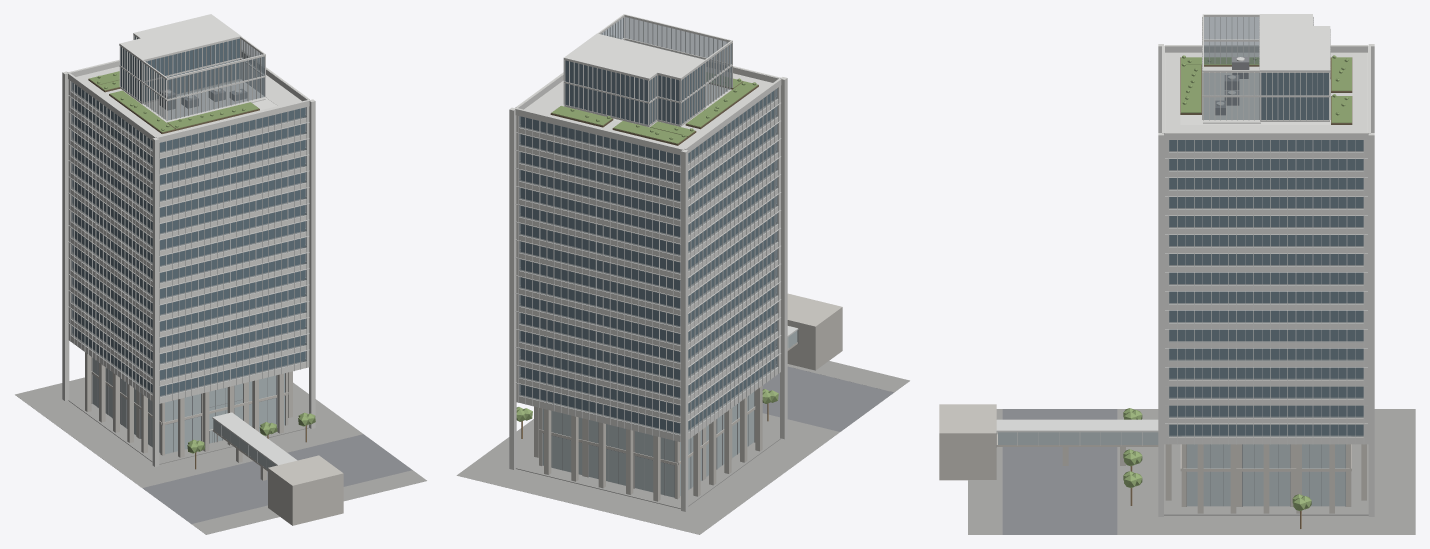
File: clay-plus15-glass-office-tower-clay-v006.glb
3 views of the same model, side by side, from view 1: azimuth 30°, elevation 25°; view 2: azimuth 150°, elevation 25°; view 3: azimuth 270°, elevation 25° (orthographic). The views are drawn at different scales.
Parts seen in each view (by area): view 1: CLAY_GLASS, CLAY_PALE, CLAY_BLUE, CLAY_METAL, CLAY_FOUNDATION, CLAY_CONCRETE, CLAY_HARDWARE, CLAY_LIGHTGLASS, CLAY_FLOOR, CLAY_MEMBRANE, CLAY_PLANTING; view 2: CLAY_GLASS, CLAY_BLUE, CLAY_PALE, CLAY_METAL, CLAY_FOUNDATION, CLAY_CONCRETE, CLAY_LIGHTGLASS, CLAY_HARDWARE, CLAY_FLOOR, CLAY_MEMBRANE, CLAY_PLANTING, CLAY_SOIL; view 3: CLAY_GLASS, CLAY_PALE, CLAY_BLUE, CLAY_FOUNDATION, CLAY_METAL, CLAY_HARDWARE, CLAY_CONCRETE, CLAY_LIGHTGLASS, CLAY_MEMBRANE, CLAY_PLANTING, CLAY_FLOOR.
Part boxes in pixels (<box>): CLAY_GLASS: <box>71,36,306,397</box>; CLAY_PALE: <box>62,33,315,467</box>; CLAY_BLUE: <box>72,36,305,395</box>; CLAY_METAL: <box>68,35,309,469</box>; CLAY_FOUNDATION: <box>15,377,426,534</box>; CLAY_CONCRETE: <box>75,337,343,525</box>; CLAY_HARDWARE: <box>92,88,412,523</box>; CLAY_LIGHTGLASS: <box>92,358,284,469</box>; CLAY_FLOOR: <box>75,93,302,396</box>; CLAY_MEMBRANE: <box>119,14,301,110</box>; CLAY_PLANTING: <box>89,71,315,453</box>; CLAY_GLASS: <box>519,17,798,434</box>; CLAY_BLUE: <box>520,60,776,433</box>; CLAY_PALE: <box>509,14,787,511</box>; CLAY_METAL: <box>515,17,798,442</box>; CLAY_FOUNDATION: <box>456,361,909,534</box>; CLAY_CONCRETE: <box>528,293,842,501</box>; CLAY_LIGHTGLASS: <box>542,331,797,497</box>; CLAY_HARDWARE: <box>542,366,893,497</box>; CLAY_FLOOR: <box>523,101,773,416</box>; CLAY_MEMBRANE: <box>524,33,705,127</box>; CLAY_PLANTING: <box>516,74,778,421</box>; CLAY_SOIL: <box>550,81,758,145</box>; CLAY_GLASS: <box>996,17,1363,436</box>; CLAY_PALE: <box>1158,14,1374,516</box>; CLAY_BLUE: <box>1169,73,1363,435</box>; CLAY_FOUNDATION: <box>968,409,1415,534</box>; CLAY_METAL: <box>996,16,1367,445</box>; CLAY_HARDWARE: <box>1002,57,1345,534</box>; CLAY_CONCRETE: <box>939,404,1366,513</box>; CLAY_LIGHTGLASS: <box>998,432,1345,506</box>; CLAY_MEMBRANE: <box>1165,14,1367,132</box>; CLAY_PLANTING: <box>1123,55,1351,510</box>; CLAY_FLOOR: <box>1169,140,1363,436</box>.
Size of the model in its own units: 52 by 82.66 by 83.
